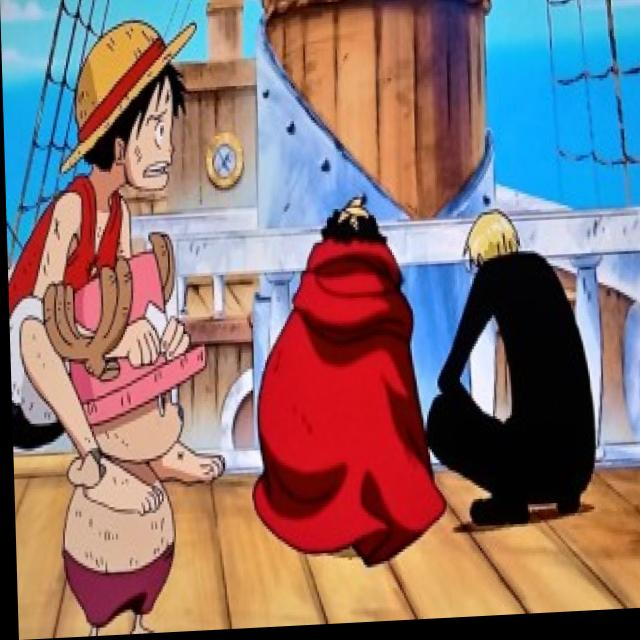Chyopa: (16, 223, 220, 639)
Luffy: (59, 8, 200, 197)
Sangdi: (455, 195, 525, 295)
